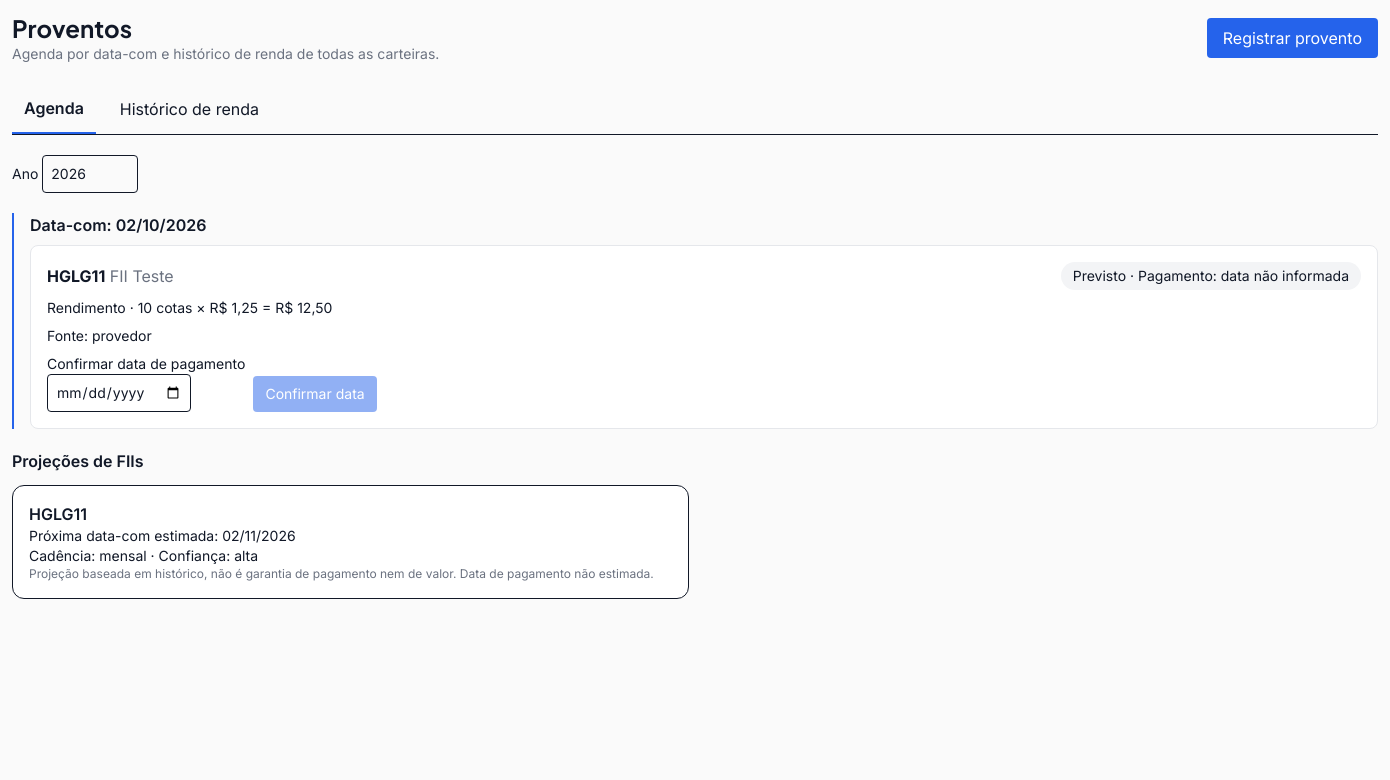
Test case: dividend page › pairs the payment date with its workflow status inside one accessible chip
expect the text named "Status Previsto; pagamento: data não informada" reads "Previsto · Pagamento: data não informada": met, box [1061,262,1361,290]
Type "2026-10-15" into the date field named "Data de pagamento de HGLG11".
click(119, 393); type("2026-10-15")  # box [47,374,191,412]
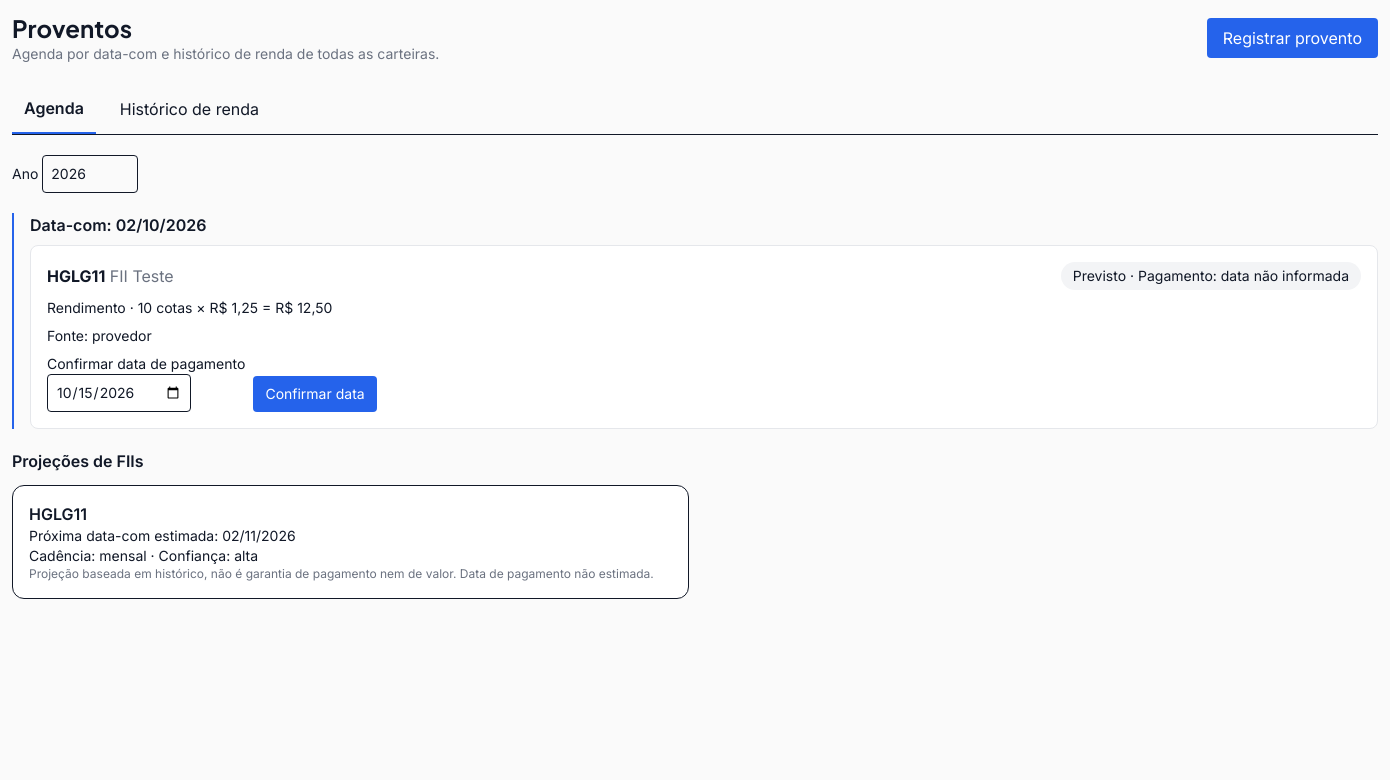
Click the button "Confirmar data".
click(315, 394)  # box [253,376,377,412]
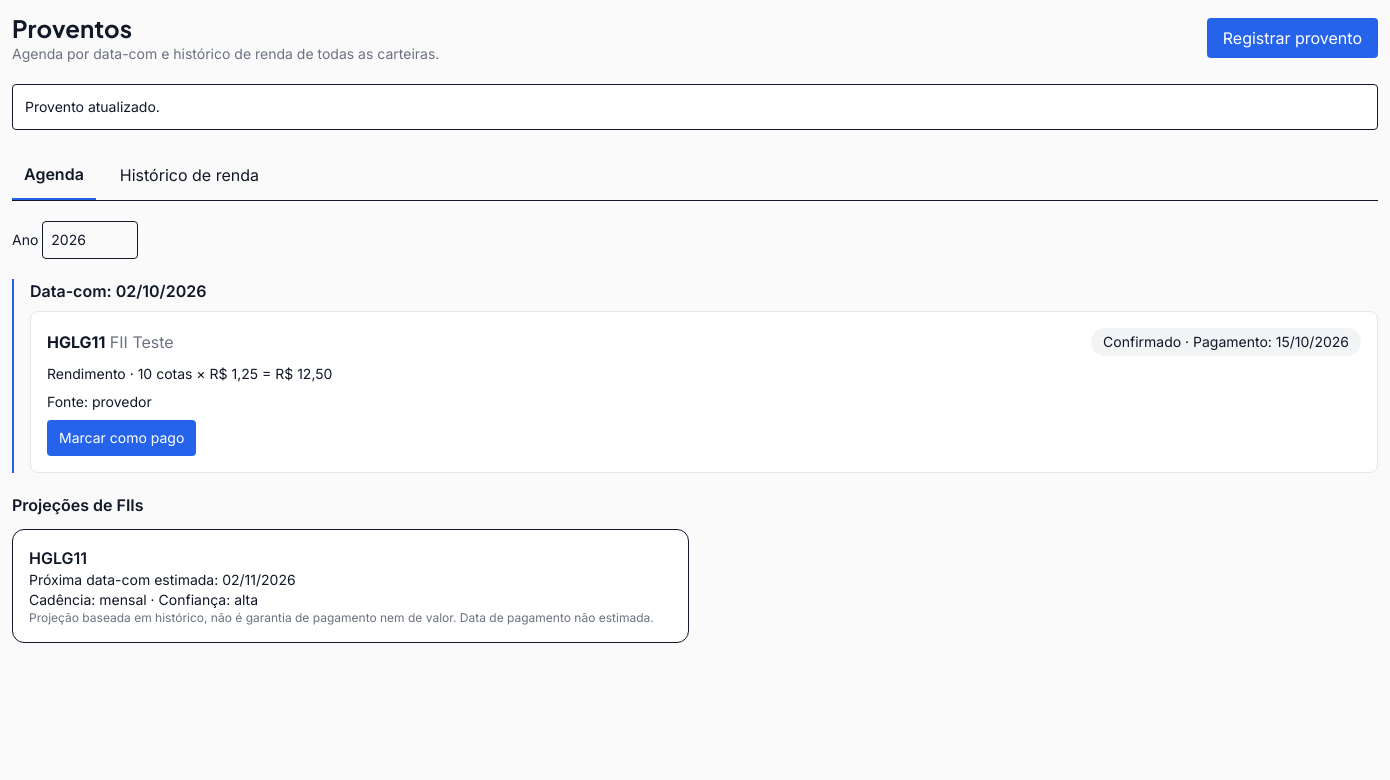
expect the text named "Status Confirmado; pagamento: 15/10/2026" reads "Confirmado · Pagamento: 15/10/2026": met, box [1091,328,1361,356]
Click the button "Marcar como pago".
click(122, 438)  # box [47,420,196,456]
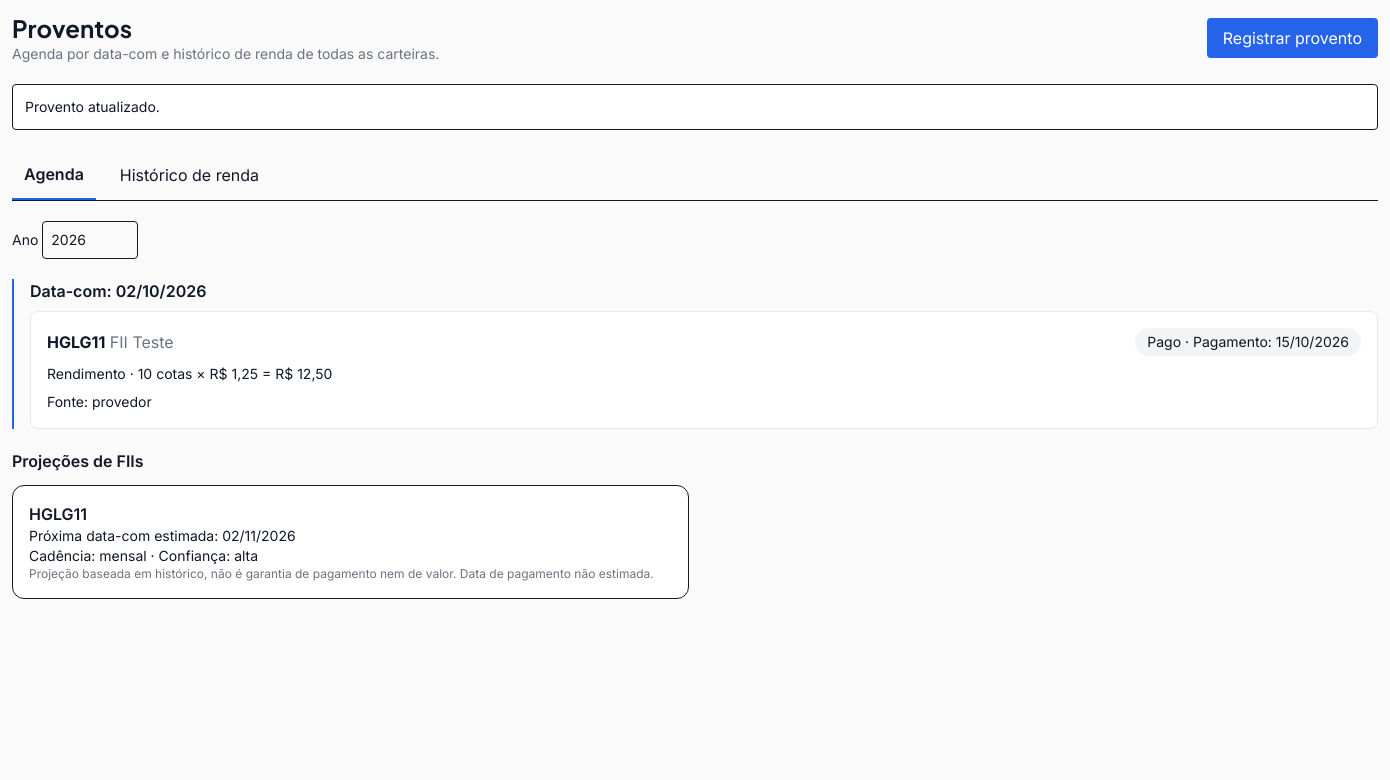
expect the text named "Status Pago; pagamento: 15/10/2026" reads "Pago · Pagamento: 15/10/2026": met, box [1135,328,1361,356]
